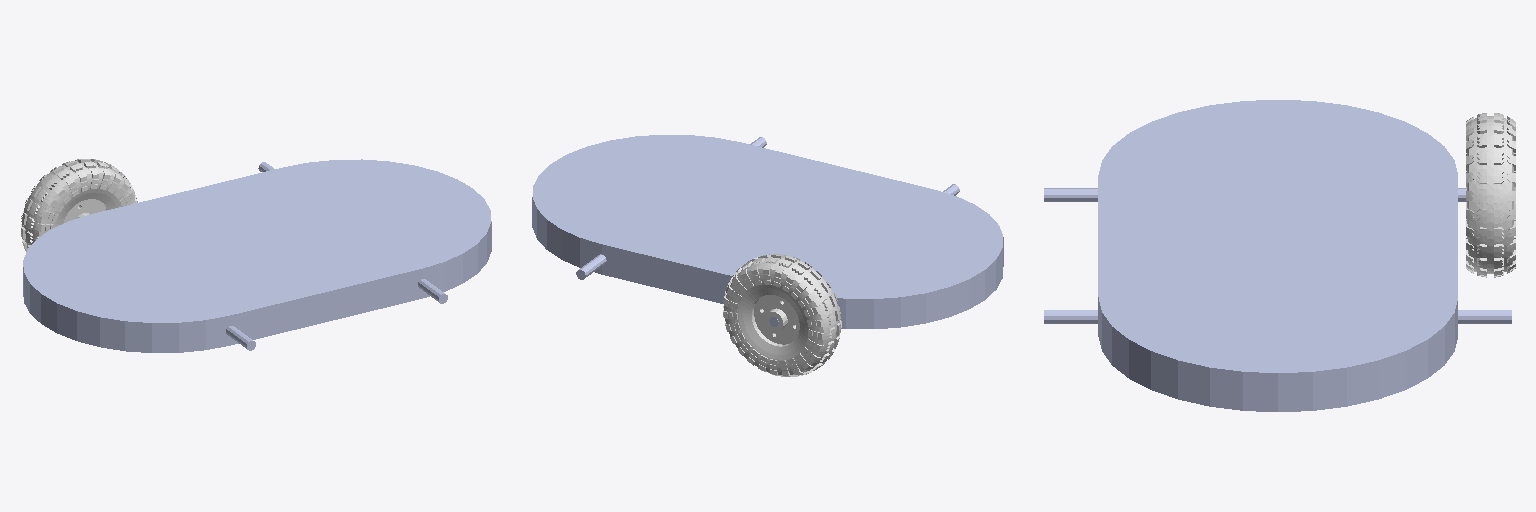
robot.urdf — Igris:
<?xml version="1.0" encoding="utf-8"?>
<!-- This URDF was automatically created by SolidWorks to URDF Exporter! Originally created by [author] ([email redacted]) 
     Commit Version: 1.6.0-4-g7f85cfe  Build Version: 1.6.7995.38578
     For more information, please see http://wiki.ros.org/sw_urdf_exporter -->
<robot
  name="Igris">
  <link
    name="base_link">
    <inertial>
      <origin
        xyz="-5.51675008758243E-18 4.59499669958658E-17 0.03"
        rpy="0 0 0" />
      <mass
        value="23.8752202305694" />
      <inertia
        ixx="0.449048689155945"
        ixy="-2.19877049143439E-18"
        ixz="-1.57164907896417E-18"
        iyy="1.32622550789332"
        iyz="-3.45471987244402E-18"
        izz="1.76100090118971" />
    </inertial>
    <visual>
      <origin
        xyz="0 0 0"
        rpy="0 0 0" />
      <geometry>
        <mesh
          filename="package://Igris/meshes/base_link.STL" />
      </geometry>
      <material
        name="">
        <color
          rgba="0.792156862745098 0.819607843137255 0.933333333333333 1" />
      </material>
    </visual>
    <collision>
      <origin
        xyz="0 0 0"
        rpy="0 0 0" />
      <geometry>
        <mesh
          filename="package://Igris/meshes/base_link.STL" />
      </geometry>
    </collision>
  </link>
  <link
    name="front_left_wheel">
    <inertial>
      <origin
        xyz="0.200000000000055 0.294999999998909 0.0299999999999783"
        rpy="0 0 0" />
      <mass
        value="2.11669573162386" />
      <inertia
        ixx="0.00765610745146771"
        ixy="-2.91204810360956E-15"
        ixz="-5.76442092483685E-14"
        iyy="0.0140448819805897"
        iyz="1.41195879933407E-16"
        izz="0.00765610745118413" />
    </inertial>
    <visual>
      <origin
        xyz="0 0 0"
        rpy="0 0 0" />
      <geometry>
        <mesh
          filename="package://Igris/meshes/front_left_wheel.STL" />
      </geometry>
      <material
        name="">
        <color
          rgba="0.898039215686275 0.898039215686275 0.898039215686275 1" />
      </material>
    </visual>
    <collision>
      <origin
        xyz="0 0 0"
        rpy="0 0 0" />
      <geometry>
        <mesh
          filename="package://Igris/meshes/front_left_wheel.STL" />
      </geometry>
    </collision>
  </link>
  <joint
    name="front_left_joint"
    type="revolute">
    <origin
      xyz="0 0 0"
      rpy="0 0 0" />
    <parent
      link="base_link" />
    <child
      link="front_left_wheel" />
    <axis
      xyz="0 1 0" />
    <limit
      lower="0"
      upper="0"
      effort="0"
      velocity="0" />
  </joint>
  <link
    name="front_right_wheel">
    <inertial>
      <origin
        xyz="0.200000000000023 -0.29499999999891 0.0299999999999481"
        rpy="0 0 0" />
      <mass
        value="2.11669573162388" />
      <inertia
        ixx="0.00765610745118983"
        ixy="1.94433559495619E-16"
        ixz="-7.01371305092623E-14"
        iyy="0.0140448819805898"
        iyz="-2.72195951893104E-15"
        izz="0.00765610745146195" />
    </inertial>
    <visual>
      <origin
        xyz="0 0 0"
        rpy="0 0 0" />
      <geometry>
        <mesh
          filename="package://Igris/meshes/front_right_wheel.STL" />
      </geometry>
      <material
        name="">
        <color
          rgba="0.898039215686275 0.898039215686275 0.898039215686275 1" />
      </material>
    </visual>
    <collision>
      <origin
        xyz="0 0 0"
        rpy="0 0 0" />
      <geometry>
        <mesh
          filename="package://Igris/meshes/front_right_wheel.STL" />
      </geometry>
    </collision>
  </link>
  <joint
    name="front_right_joint"
    type="revolute">
    <origin
      xyz="0 0 0"
      rpy="0 0 0" />
    <parent
      link="base_link" />
    <child
      link="front_right_wheel" />
    <axis
      xyz="0 -1 0" />
    <limit
      lower="0"
      upper="0"
      effort="0"
      velocity="0" />
  </joint>
  <link
    name="rear_left_wheel">
    <inertial>
      <origin
        xyz="-0.200000000000005 0.294999999998912 0.0300000000000562"
        rpy="0 0 0" />
      <mass
        value="2.11669573162387" />
      <inertia
        ixx="0.00765610745118839"
        ixy="9.10935927848959E-16"
        ixz="-6.76788558631359E-14"
        iyy="0.0140448819805898"
        iyz="-2.13128190116297E-15"
        izz="0.00765610745146303" />
    </inertial>
    <visual>
      <origin
        xyz="0 0 0"
        rpy="0 0 0" />
      <geometry>
        <mesh
          filename="package://Igris/meshes/rear_left_wheel.STL" />
      </geometry>
      <material
        name="">
        <color
          rgba="0.898039215686275 0.898039215686275 0.898039215686275 1" />
      </material>
    </visual>
    <collision>
      <origin
        xyz="0 0 0"
        rpy="0 0 0" />
      <geometry>
        <mesh
          filename="package://Igris/meshes/rear_left_wheel.STL" />
      </geometry>
    </collision>
  </link>
  <joint
    name="rear_left_joint"
    type="revolute">
    <origin
      xyz="0 0 0"
      rpy="0 0 0" />
    <parent
      link="base_link" />
    <child
      link="rear_left_wheel" />
    <axis
      xyz="0 1 0" />
    <limit
      lower="0"
      upper="0"
      effort="0"
      velocity="0" />
  </joint>
  <link
    name="rear_right_wheel">
    <inertial>
      <origin
        xyz="-0.199999999999981 -0.294999999998913 0.0300000000000552"
        rpy="0 0 0" />
      <mass
        value="2.11669573162387" />
      <inertia
        ixx="0.00765610745122861"
        ixy="1.15458355716263E-15"
        ixz="1.18415382829545E-13"
        iyy="0.0140448819805897"
        iyz="1.70650990582261E-15"
        izz="0.00765610745142258" />
    </inertial>
    <visual>
      <origin
        xyz="0 0 0"
        rpy="0 0 0" />
      <geometry>
        <mesh
          filename="package://Igris/meshes/rear_right_wheel.STL" />
      </geometry>
      <material
        name="">
        <color
          rgba="0.898039215686275 0.898039215686275 0.898039215686275 1" />
      </material>
    </visual>
    <collision>
      <origin
        xyz="0 0 0"
        rpy="0 0 0" />
      <geometry>
        <mesh
          filename="package://Igris/meshes/rear_right_wheel.STL" />
      </geometry>
    </collision>
  </link>
  <joint
    name="rear_right_joint"
    type="revolute">
    <origin
      xyz="0 0 0"
      rpy="0 0 0" />
    <parent
      link="base_link" />
    <child
      link="rear_right_wheel" />
    <axis
      xyz="0 -1 0" />
    <limit
      lower="0"
      upper="0"
      effort="0"
      velocity="0" />
  </joint>
</robot>

--- Facts derived from the render (not from the file) ---
3 views of the same robot in one strip: view 1: azimuth 30°, elevation 25°; view 2: azimuth 150°, elevation 25°; view 3: azimuth 270°, elevation 25° (orthographic).
Model Igris with 5 links and 4 joints (4 revolute), rooted at base_link, posed every joint at zero.
Visible links, largest first — view 1: base_link, rear_left_wheel; view 2: base_link, rear_left_wheel; view 3: base_link, rear_left_wheel.
Boxes of the visible links, x1,y1,x2,y2 form: base_link: (23, 159, 491, 352); rear_left_wheel: (20, 159, 137, 251); base_link: (532, 135, 1003, 328); rear_left_wheel: (723, 254, 841, 376); base_link: (1044, 100, 1511, 411); rear_left_wheel: (1466, 113, 1515, 277).
Size in the robot's own frame: 0.9 by 0.6545 by 0.2295 metres.
2 mesh visuals loaded from 5 distinct referenced files (2 binary STL); not drawn: 3 (reference not matched to a file when rendering).